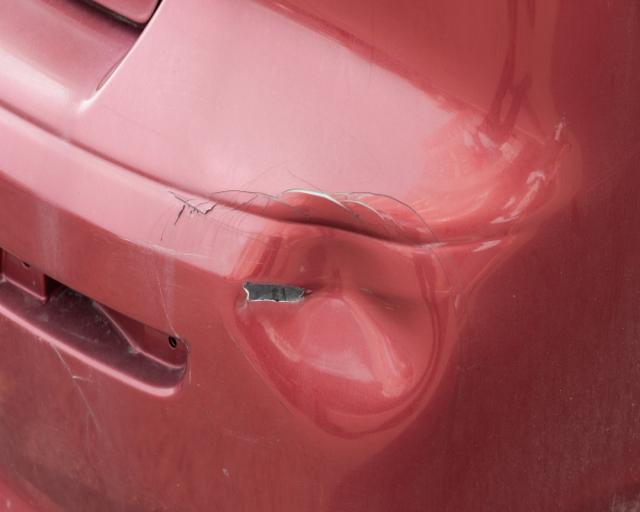dent: (241, 194, 439, 399)
